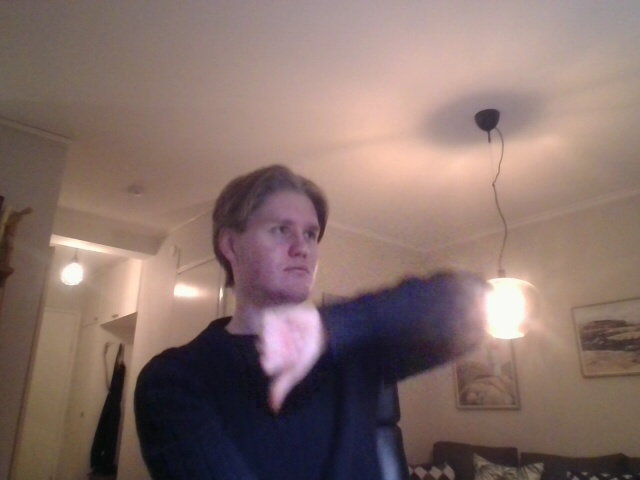ThumbsDown: (257, 305, 325, 414)
